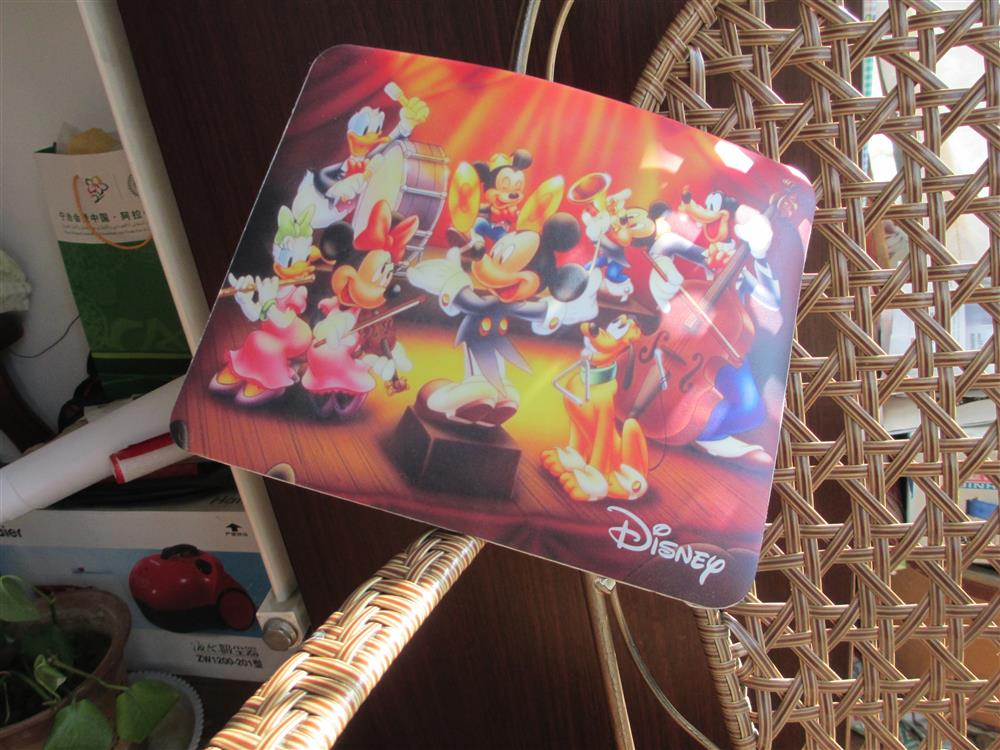disney_mat: (166, 42, 851, 615)
